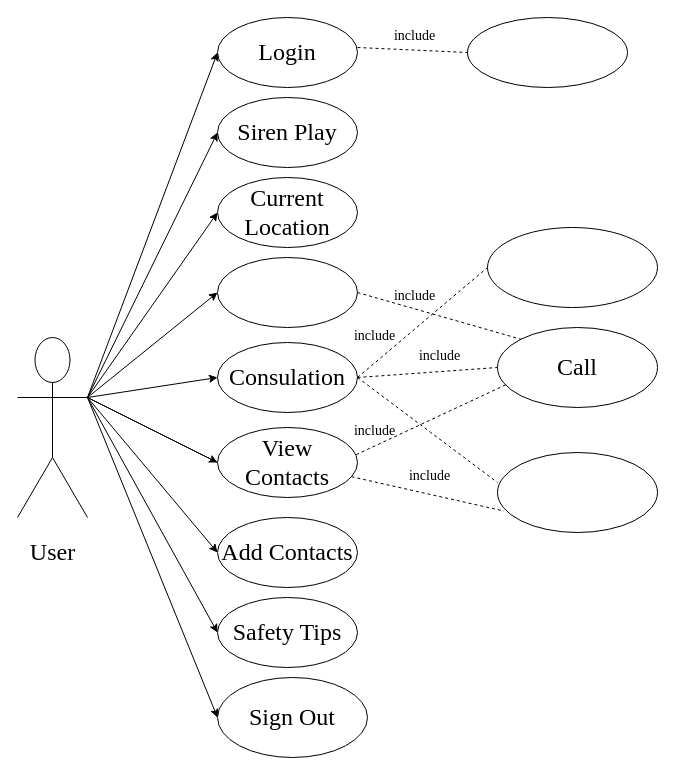
The diagram is 675 pixels wide and 775 high, and some of its shapes have lost their labels. Each missing label, with the box of its shape:
Actor: (16, 336, 88, 518)
Email: (486, 226, 658, 308)
Helpline: (216, 256, 358, 328)
Message: (496, 452, 658, 532)
Signup: (466, 16, 628, 88)
